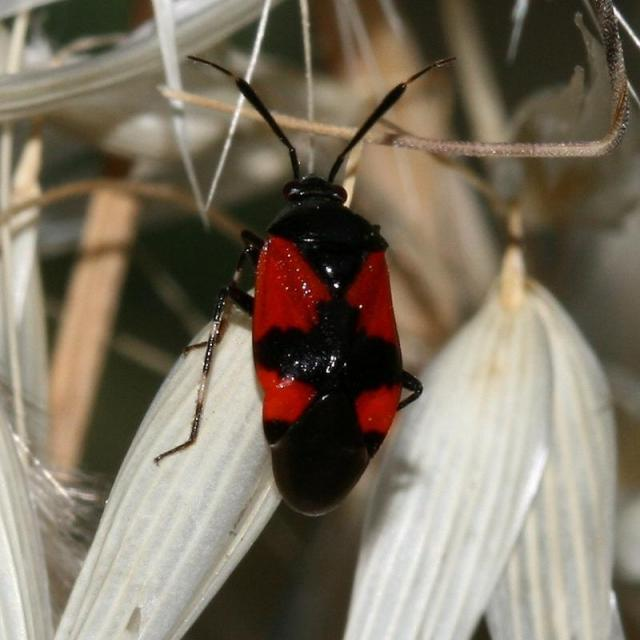Miridae-Adult-: (154, 44, 451, 514)
